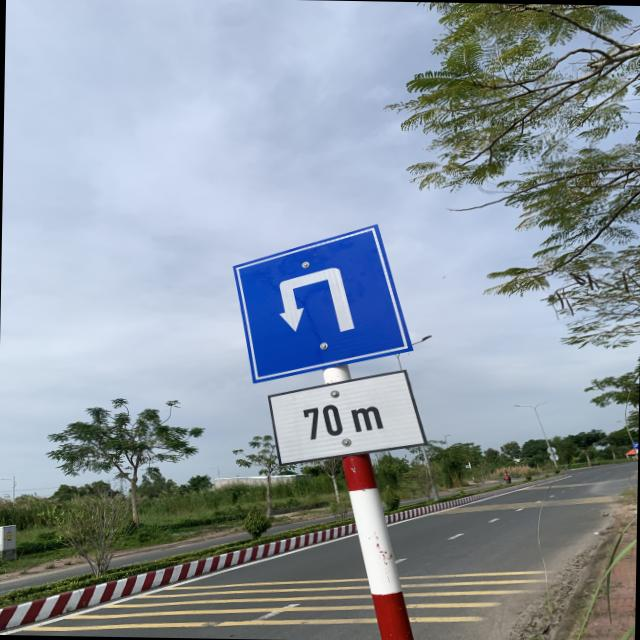Den_Giao_Thong: (230, 220, 418, 382)
